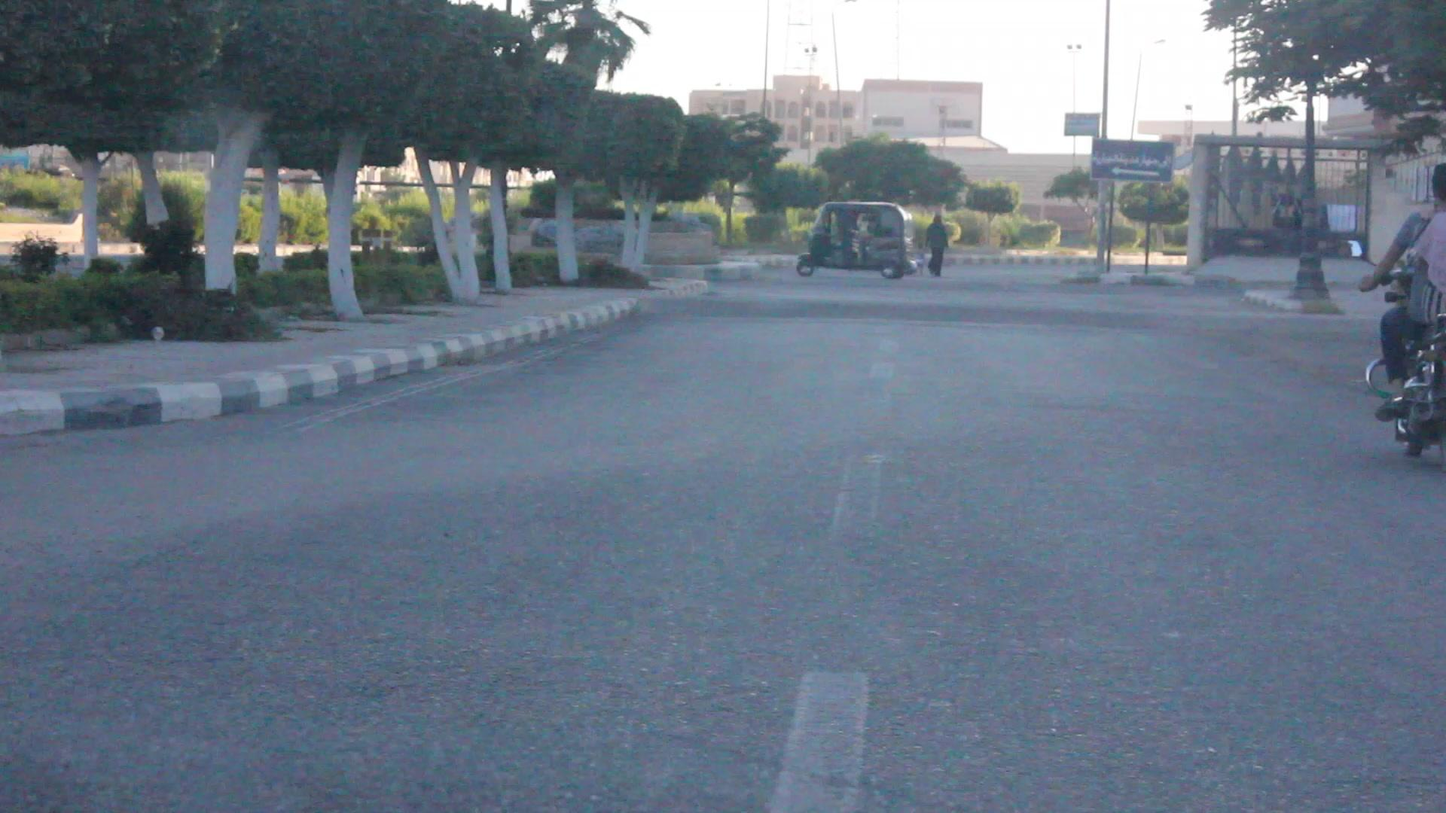Bump: (667, 286, 1269, 337)
